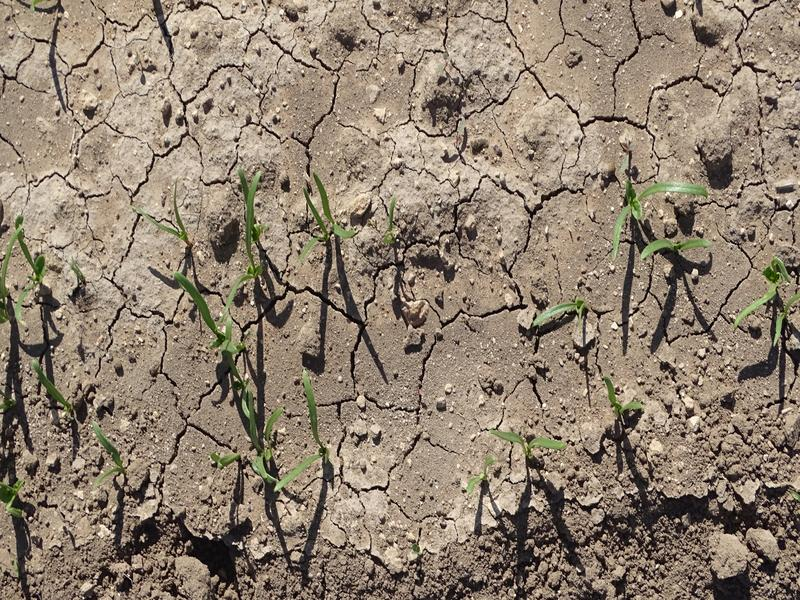Espinaca: (216, 368, 325, 490), (613, 175, 716, 265), (157, 278, 243, 356), (223, 168, 269, 313), (293, 172, 362, 259), (734, 259, 800, 343), (1, 218, 47, 328), (84, 421, 130, 485), (481, 426, 569, 459), (31, 356, 75, 414)
